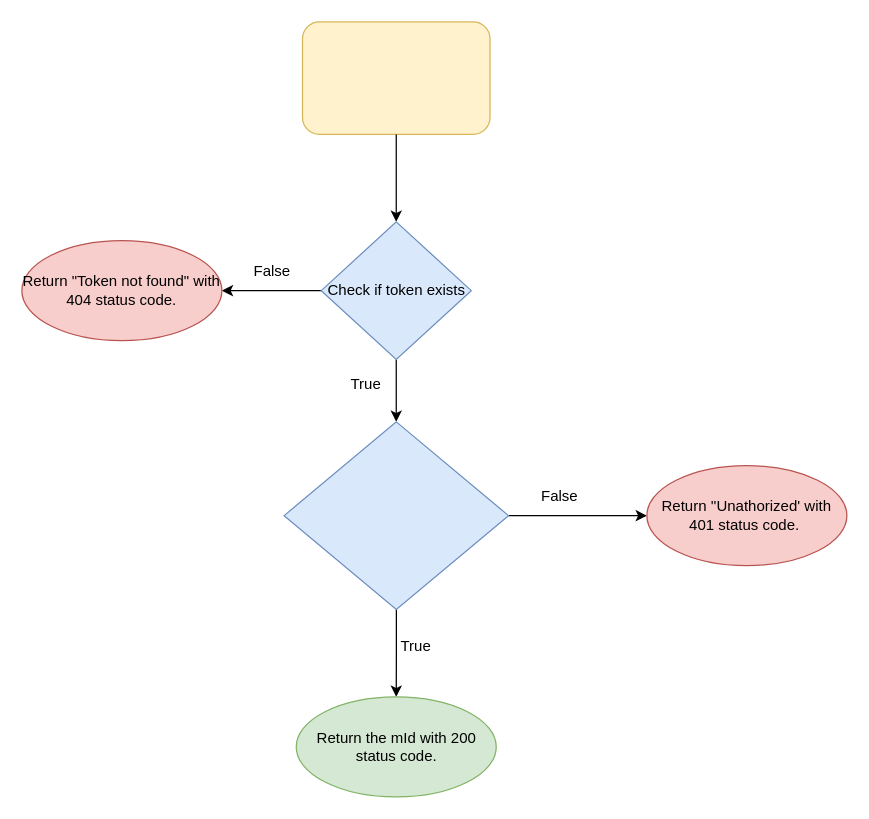
Image size: 869x819. Some labels were removed from this diagram. Each missing label, with the centre of its shape:
Compares bearer token and token from env: [395,515]
POST /message: [395,77]
